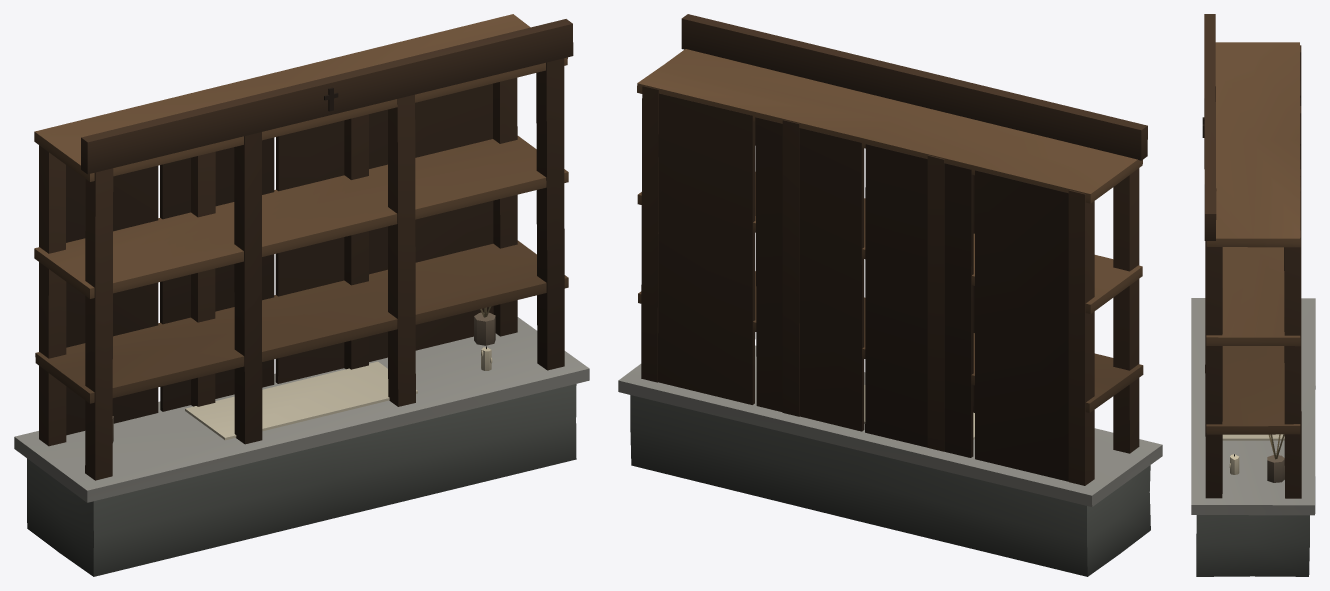
File: ph_int_ossuary_shelf.glb
3 renders of one model, left to right at view 1: azimuth 30°, elevation 25°; view 2: azimuth 150°, elevation 25°; view 3: azimuth 270°, elevation 25°, orthographic. The views are drawn at different scales.
Visible parts, largest first — view 1: ph_int_ossuary_shelf; view 2: ph_int_ossuary_shelf; view 3: ph_int_ossuary_shelf.
Part boxes in pixels (bbox=[...]): ph_int_ossuary_shelf: bbox=[14, 14, 589, 576]; ph_int_ossuary_shelf: bbox=[618, 14, 1162, 576]; ph_int_ossuary_shelf: bbox=[1191, 14, 1315, 576].
Size of the model in its own units: 2.6 by 2.14 by 0.6637.
